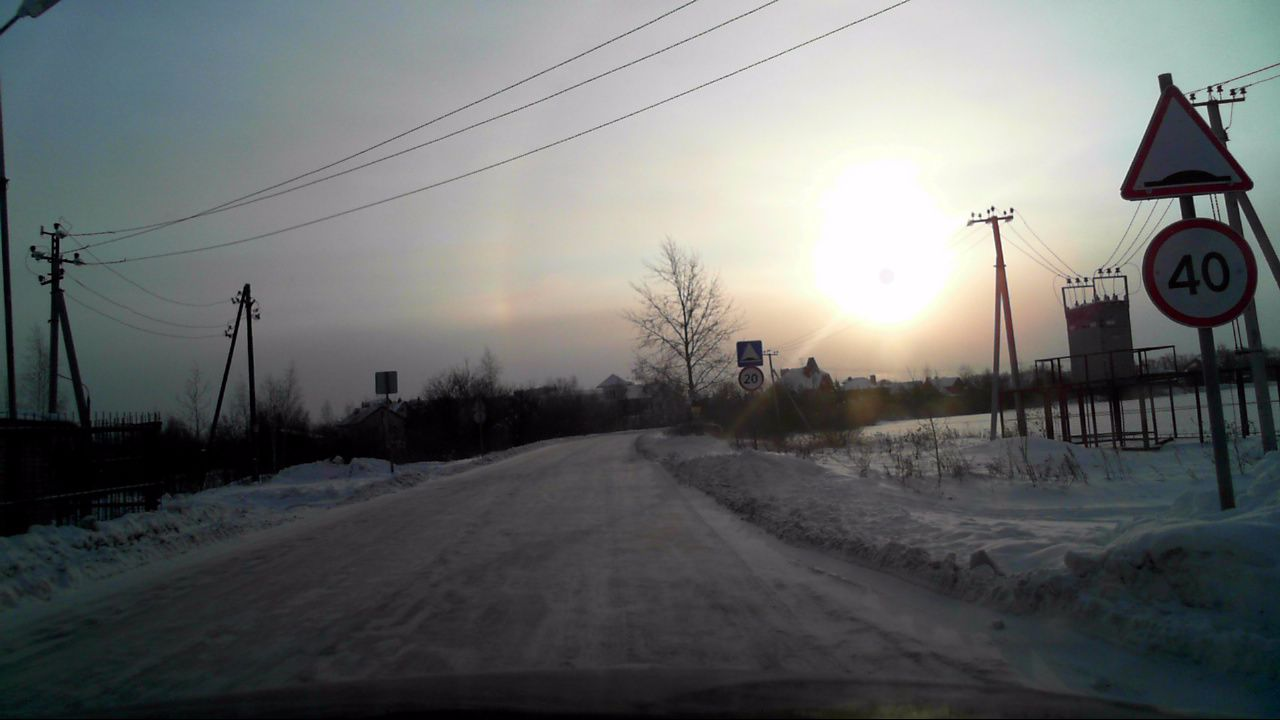speed_warning_40: (1142, 219, 1260, 328)
